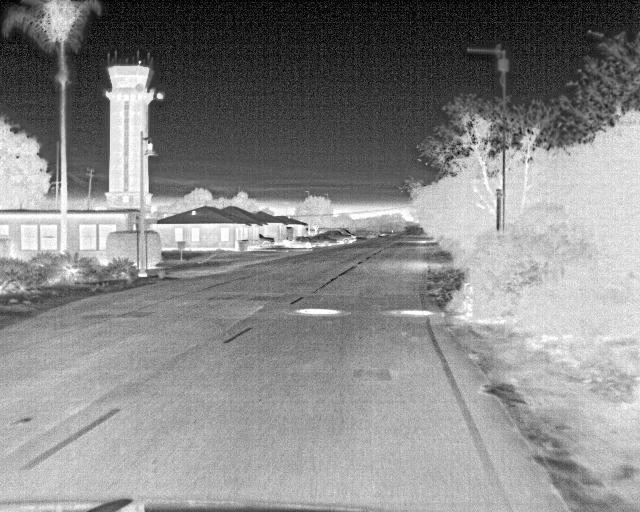car: (283, 236, 317, 251), (309, 235, 339, 249), (321, 232, 349, 247), (257, 232, 275, 249), (337, 227, 357, 242)
